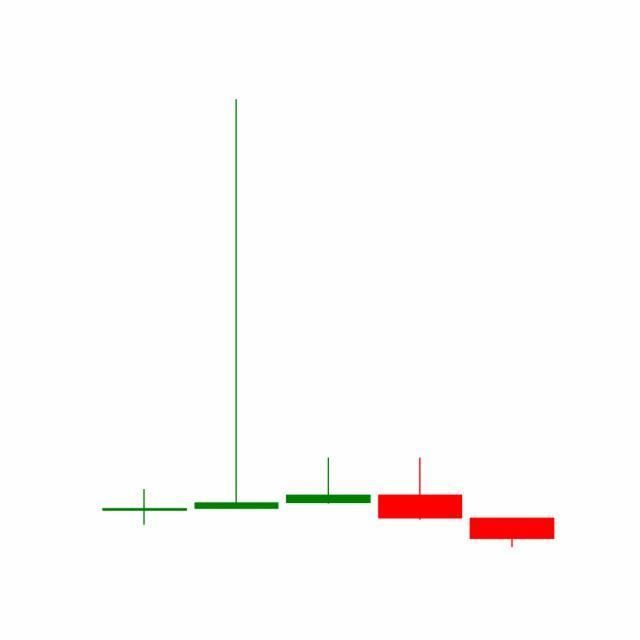Marubozu: (466, 517, 559, 548)
